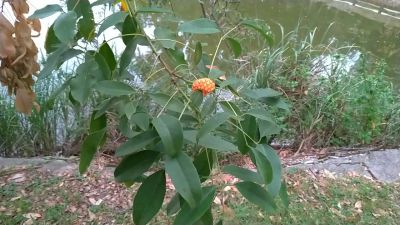eggs: (192, 76, 216, 95)
